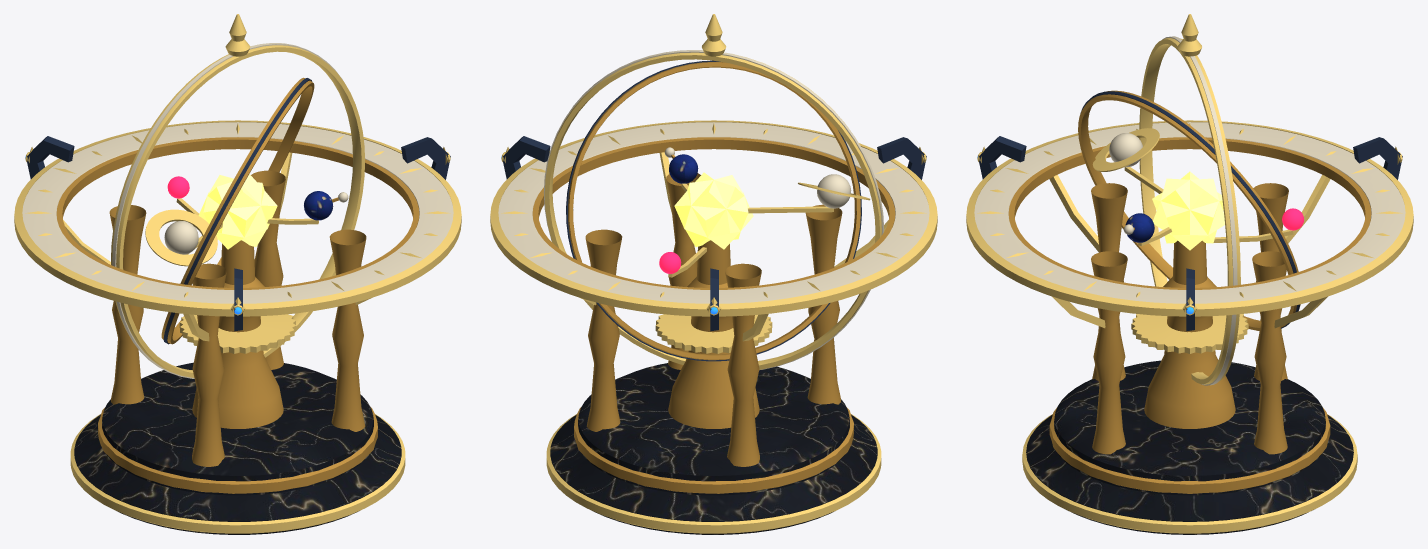
The model's file is relic_london_orrery.glb.
3 views of the same model, side by side, from view 1: azimuth 30°, elevation 25°; view 2: azimuth 150°, elevation 25°; view 3: azimuth 270°, elevation 25° (orthographic).
Parts seen in each view (by area): view 1: Orrery_Pedestal, Orrery_Ring_Outer, Orrery_Planetary_Armature, Orrery_Ring_Ecliptic, Latch_1, Latch_2, Latch_0; view 2: Orrery_Pedestal, Orrery_Ring_Outer, Orrery_Planetary_Armature, Orrery_Ring_Ecliptic, Latch_0, Latch_1, Latch_2; view 3: Orrery_Pedestal, Orrery_Planetary_Armature, Orrery_Ring_Outer, Orrery_Ring_Ecliptic, Latch_2, Latch_0, Latch_1.
Part boxes in pixels (box(x1,y1,x2,y2)): Orrery_Pedestal: box(14, 120, 461, 534); Orrery_Ring_Outer: box(111, 14, 364, 378); Orrery_Planetary_Armature: box(145, 174, 348, 266); Orrery_Ring_Ecliptic: box(161, 77, 314, 344); Latch_1: box(401, 137, 450, 179); Latch_2: box(25, 136, 74, 179); Latch_0: box(230, 268, 245, 331); Orrery_Pedestal: box(490, 120, 937, 534); Orrery_Ring_Outer: box(543, 14, 884, 370); Orrery_Planetary_Armature: box(659, 147, 870, 277); Orrery_Ring_Ecliptic: box(566, 60, 861, 361); Latch_0: box(877, 137, 926, 179); Latch_1: box(501, 136, 550, 179); Latch_2: box(706, 268, 721, 331); Orrery_Pedestal: box(966, 120, 1413, 534); Orrery_Planetary_Armature: box(1092, 128, 1303, 250); Orrery_Ring_Outer: box(1139, 14, 1240, 385); Orrery_Ring_Ecliptic: box(1078, 90, 1300, 330); Latch_2: box(1353, 137, 1402, 179); Latch_0: box(977, 136, 1026, 179); Latch_1: box(1182, 268, 1197, 331).
Bounding box in the file's own units: 0.7599 × 0.812 × 0.726.
9 materials, 2 textured.
